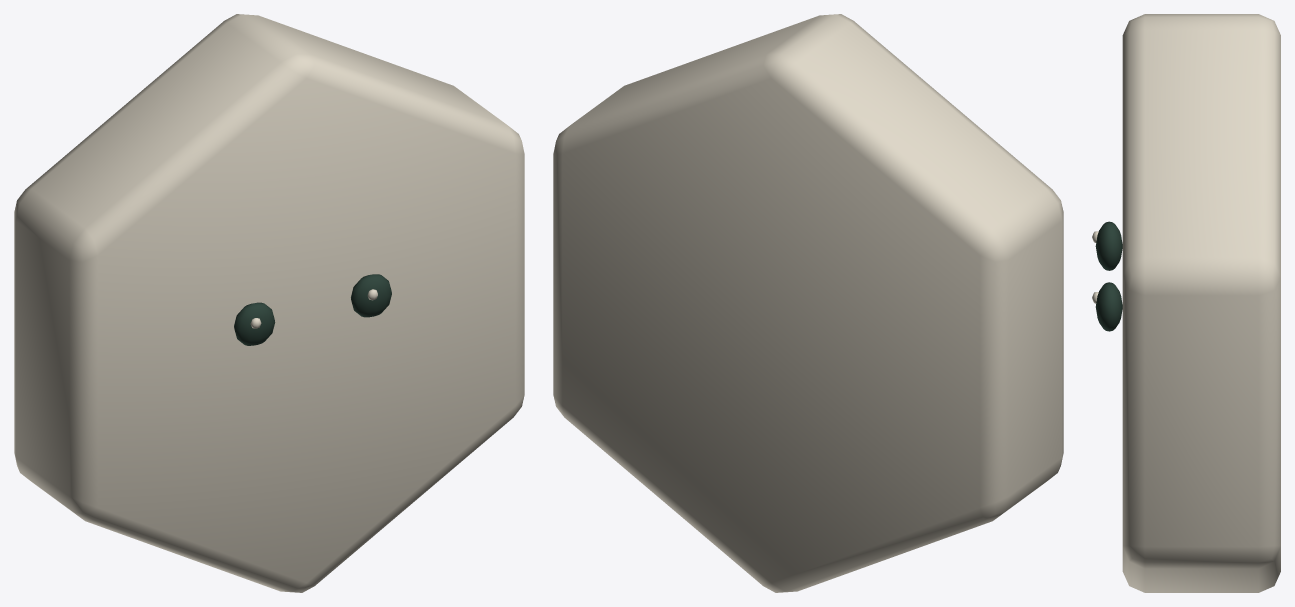
Rendered from shape_hexagon.glb.
3 views of the same model, side by side, from view 1: azimuth 30°, elevation 25°; view 2: azimuth 150°, elevation 25°; view 3: azimuth 270°, elevation 25° (orthographic). The views are drawn at different scales.
Parts seen in each view (by area): view 1: color_body, body; view 2: color_body; view 3: color_body, body.
Boxes of the visible parts, x1,y1,x2,y2 form: color_body: [14, 14, 524, 592]; body: [234, 274, 391, 345]; color_body: [553, 14, 1063, 592]; color_body: [1122, 14, 1280, 592]; body: [1092, 221, 1122, 331].
Bounding box in the file's own units: 1.13 × 1.28 × 0.382.
